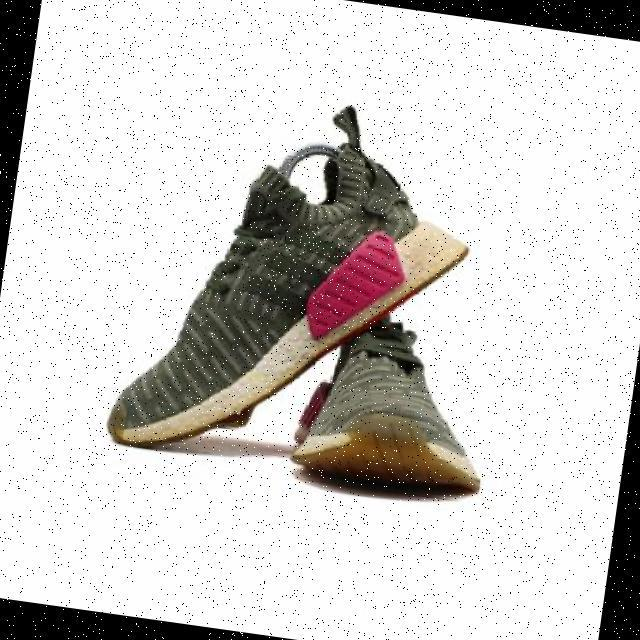Adidas: (244, 215, 361, 328)
